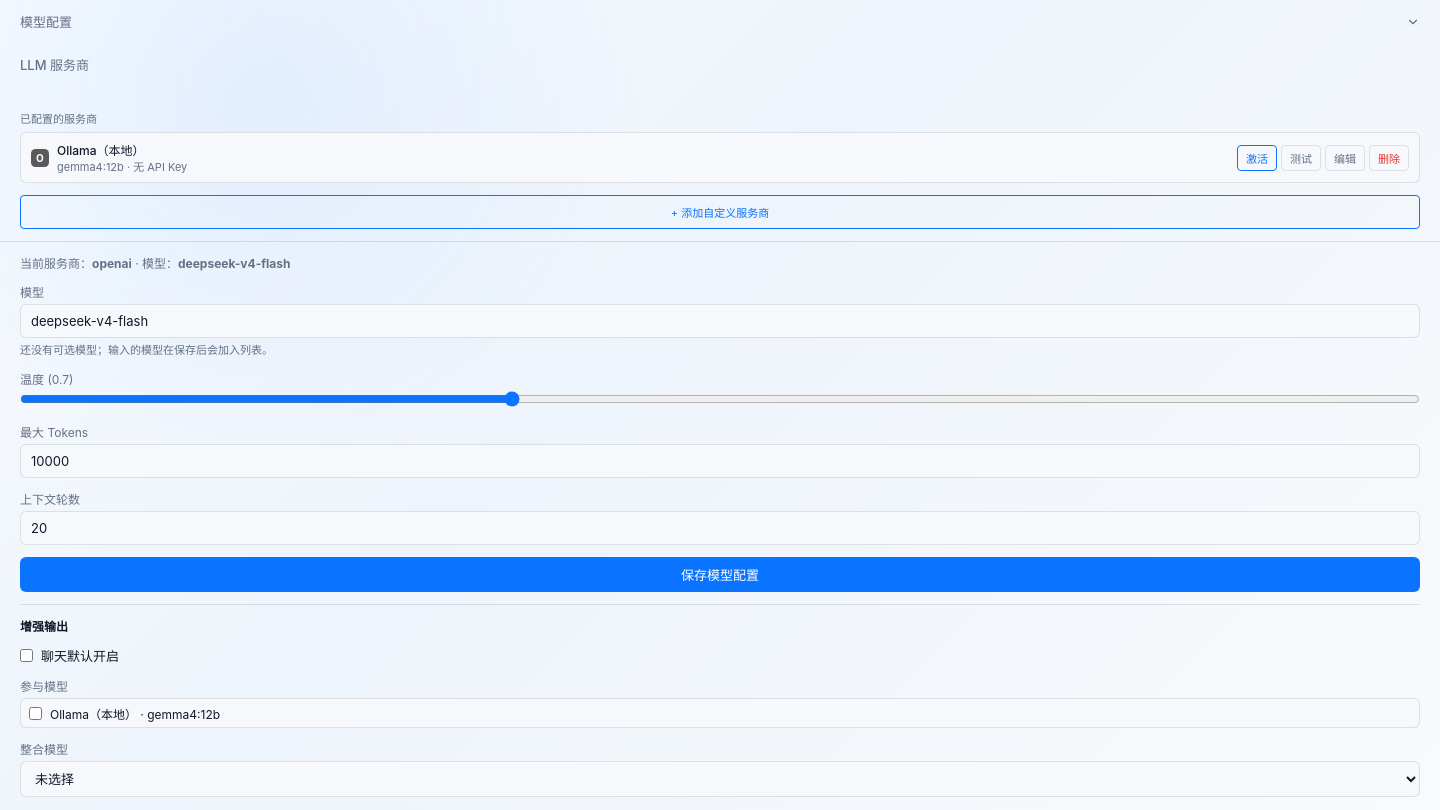
Test: ChatSettings › reloads model settings after activating a provider
Expected: the text "deepseek-v4-flash" is shown, [178, 256, 290, 271]
Click the button "激活" at coordinates (1257, 158), box [1237, 144, 1277, 170]
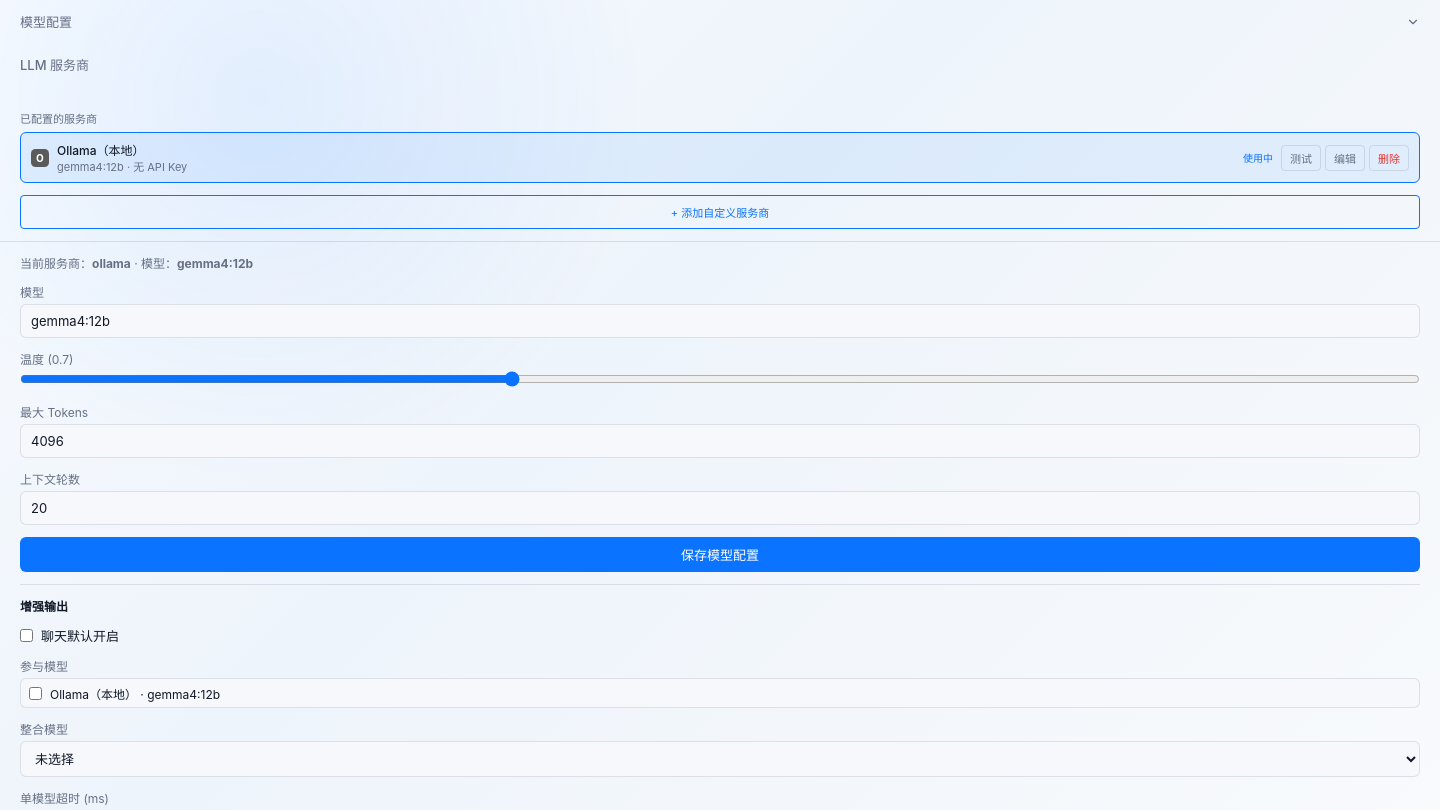
Now the text "ollama" is shown, box [92, 256, 131, 271]
Now the text "gemma4:12b" is shown, box [177, 256, 253, 271]
